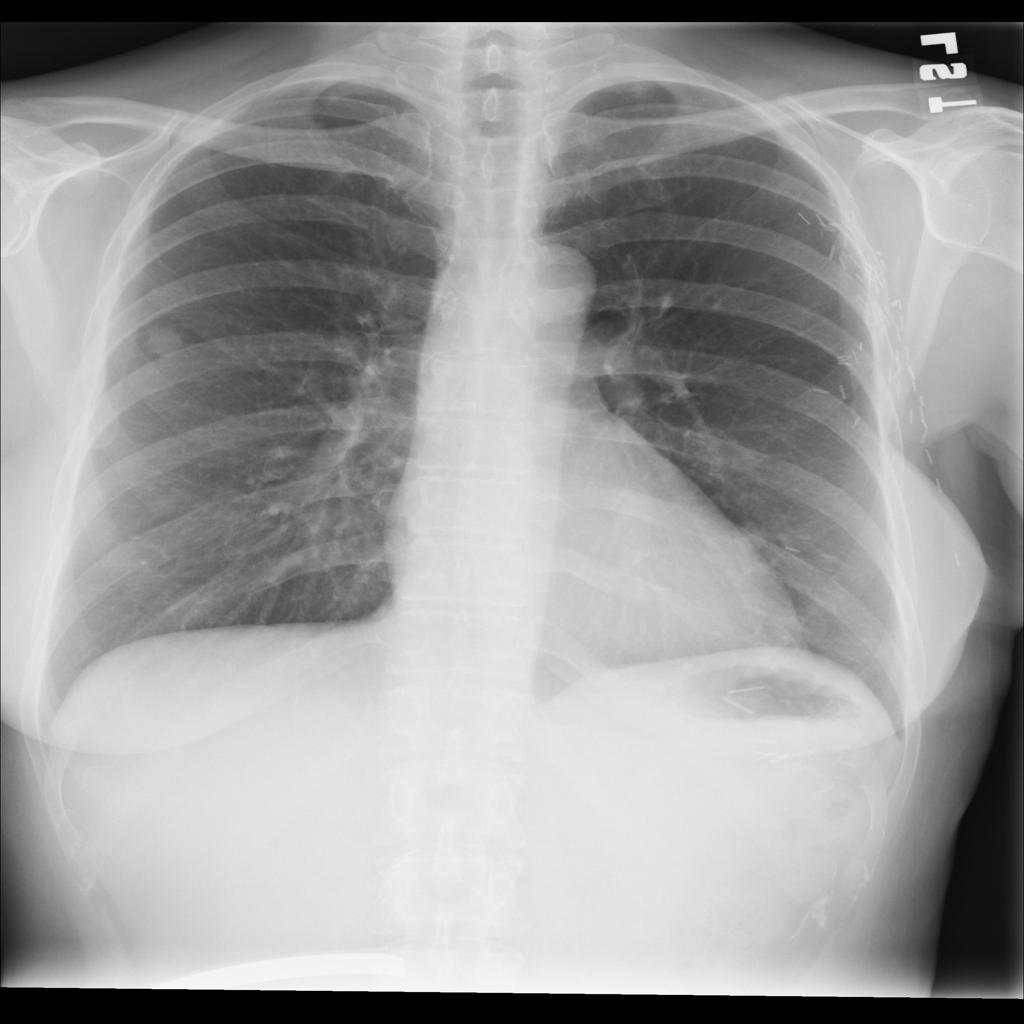nodule: (127, 310, 206, 372)
